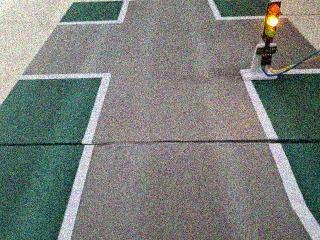yellow: (256, 0, 294, 50)
